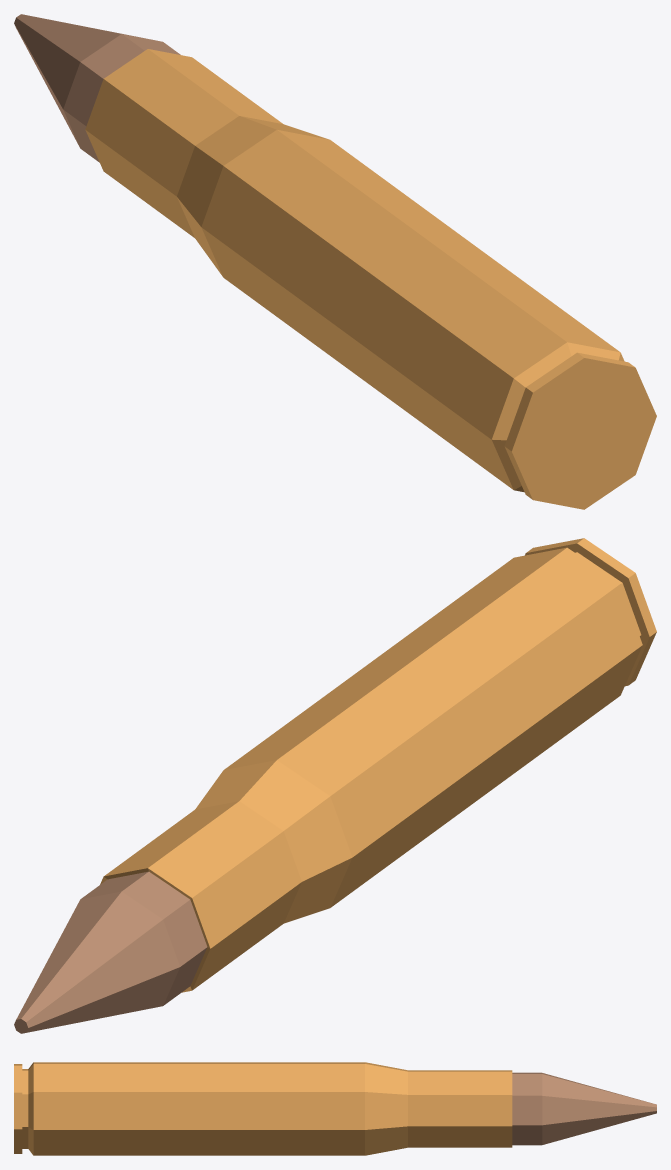
The model's file is round.glb.
3 views of the same model, one above another, from view 1: azimuth 30°, elevation 25°; view 2: azimuth 150°, elevation 25°; view 3: azimuth 270°, elevation 25° (orthographic). The views are drawn at different scales.
Visible parts, largest first — view 1: 30-06-springfield-round; view 2: 30-06-springfield-round; view 3: 30-06-springfield-round.
Boxes of the visible parts, left/top/right/bottom form: 30-06-springfield-round: left=14, top=14, right=656, bottom=509; 30-06-springfield-round: left=14, top=538, right=656, bottom=1033; 30-06-springfield-round: left=14, top=1062, right=656, bottom=1155.
Bounding box in the file's own units: 0.0126 × 0.0126 × 0.0811.
